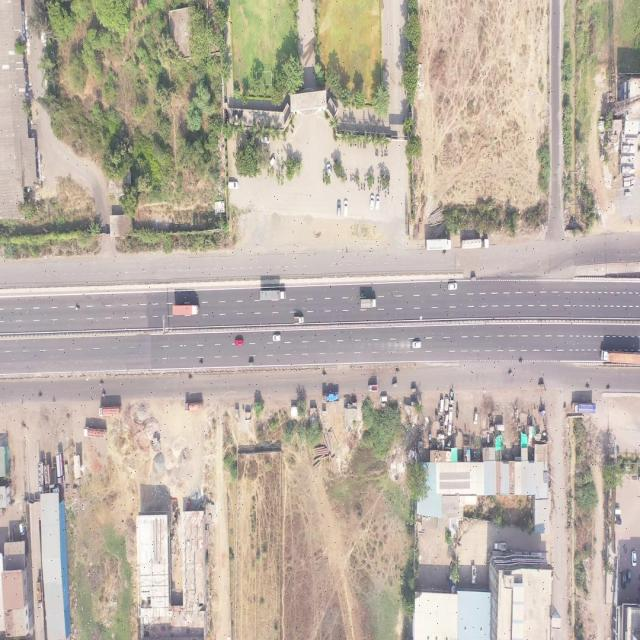3W: (494, 422, 505, 434), (538, 383, 546, 390), (247, 360, 254, 367), (539, 411, 546, 417), (392, 383, 398, 388), (411, 387, 417, 392), (471, 276, 477, 281)
Cars: (631, 550, 637, 568), (229, 181, 239, 190), (621, 572, 626, 589), (369, 195, 375, 209), (448, 283, 457, 292), (327, 164, 332, 180), (614, 516, 622, 526), (19, 523, 25, 536), (337, 200, 341, 218), (235, 339, 244, 347), (272, 334, 281, 342), (412, 341, 421, 349), (375, 195, 380, 209), (444, 397, 449, 411), (444, 412, 449, 425), (344, 200, 348, 216), (474, 410, 478, 426), (440, 398, 444, 414), (380, 395, 388, 403), (627, 569, 631, 584), (615, 508, 622, 515)
LCV: (494, 542, 507, 552), (471, 564, 477, 584), (368, 384, 377, 393), (450, 391, 455, 406), (294, 317, 304, 324)
M2W: (99, 381, 105, 387), (322, 373, 328, 378), (377, 175, 380, 184), (606, 387, 611, 392), (586, 384, 590, 390), (395, 369, 401, 373), (384, 188, 386, 198), (380, 180, 382, 190), (361, 181, 363, 191), (508, 371, 512, 376), (76, 306, 80, 311), (388, 188, 390, 197), (378, 185, 380, 194), (358, 184, 360, 193), (350, 173, 352, 182), (352, 173, 354, 182), (345, 173, 347, 182), (377, 149, 379, 158), (375, 148, 377, 157), (381, 149, 383, 158), (384, 148, 386, 157), (386, 148, 388, 157), (520, 360, 524, 364), (188, 376, 192, 380), (39, 394, 43, 398), (563, 406, 568, 409), (363, 142, 365, 149), (443, 252, 447, 255), (102, 393, 106, 396), (365, 174, 366, 183), (200, 361, 203, 364), (383, 184, 384, 191)
MAV: (600, 350, 640, 363), (172, 304, 200, 316), (460, 239, 489, 249), (83, 427, 105, 440), (426, 239, 452, 250), (260, 290, 286, 301), (56, 451, 64, 485), (99, 406, 122, 416), (38, 462, 45, 493), (36, 581, 43, 609), (185, 402, 204, 411)
Truck: (571, 402, 596, 415), (323, 391, 339, 403), (361, 298, 377, 309)
